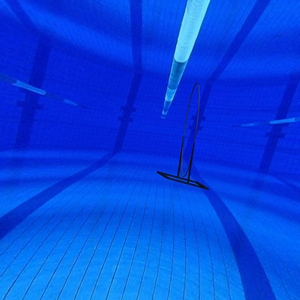circle: (156, 82, 214, 192)
